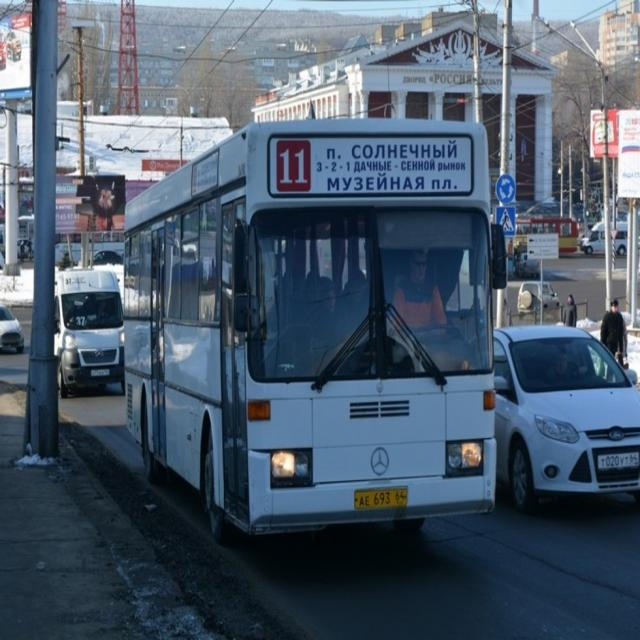number-of-bus: (278, 141, 313, 188)
